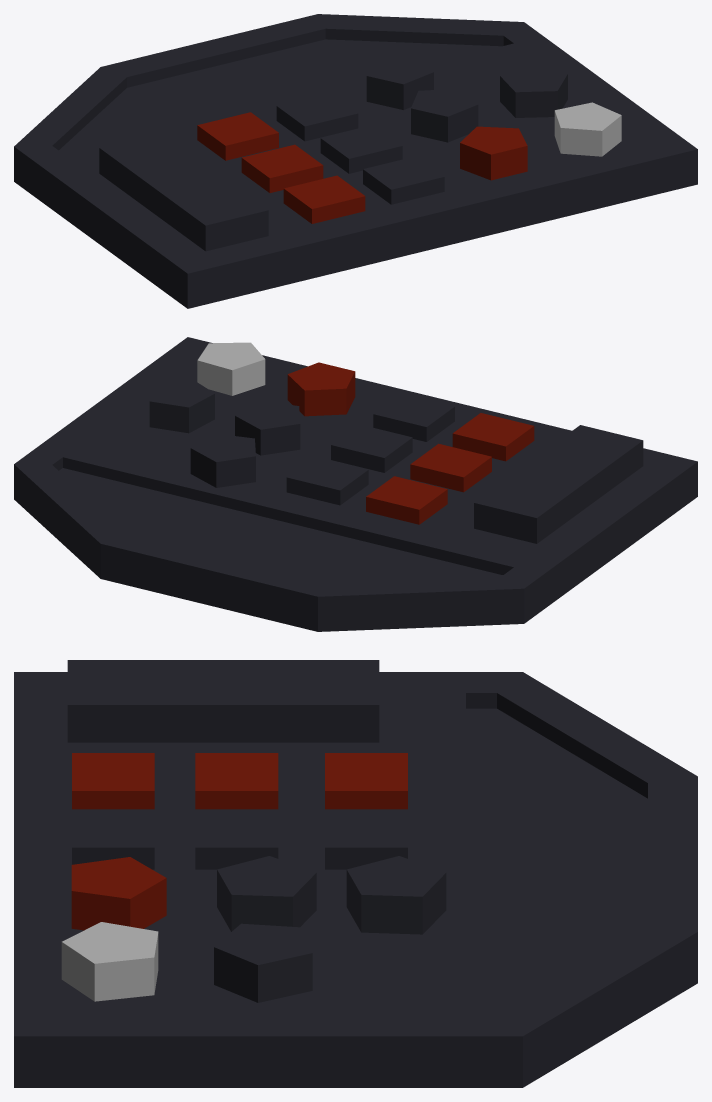
The model's file is LPSciFiCharacter_ControlPanelB.fbx.
The picture shows the model from 3 angles, top to bottom: view 1: azimuth 30°, elevation 25°; view 2: azimuth 150°, elevation 25°; view 3: azimuth 270°, elevation 25°; orthographic projection. The views are drawn at different scales.
Parts seen in each view (by area): view 1: ControlPanelB; view 2: ControlPanelB; view 3: ControlPanelB.
Part boxes in pixels (<box>): ControlPanelB: <box>14,14,697,308</box>; ControlPanelB: <box>14,337,697,631</box>; ControlPanelB: <box>14,660,697,1087</box>.
Size of the model in its own units: 43.85 by 5.01 by 34.77.
